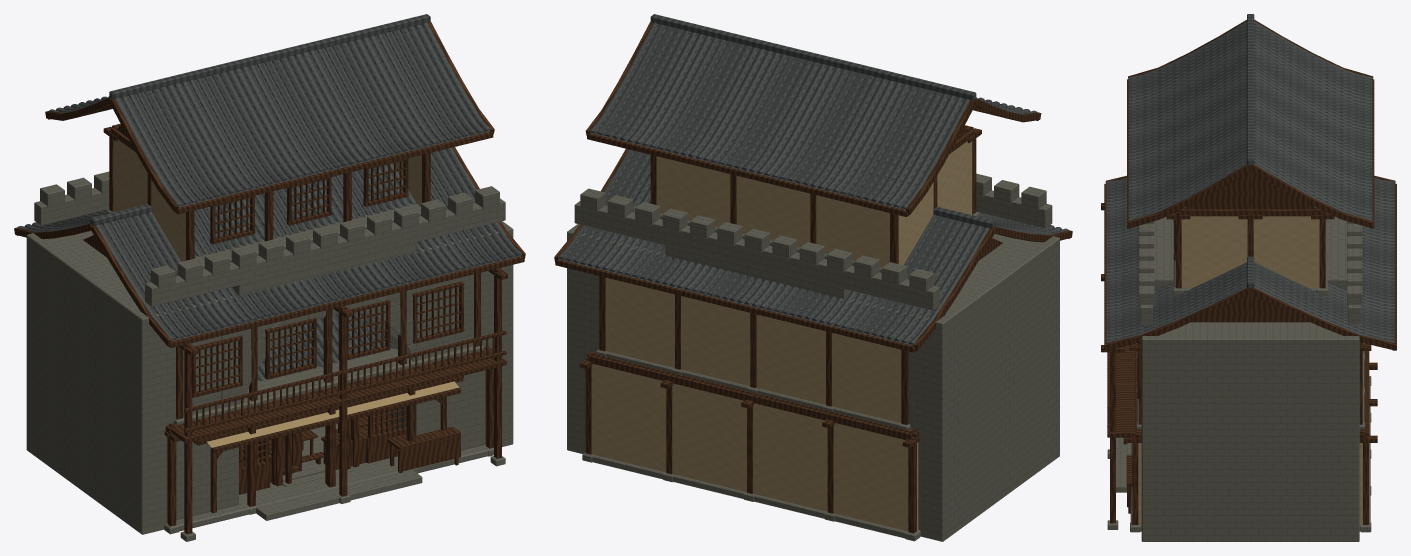
The model's file is period-architecture.glb.
The picture shows the model from 3 angles, left to right: view 1: azimuth 30°, elevation 25°; view 2: azimuth 150°, elevation 25°; view 3: azimuth 270°, elevation 25°; orthographic projection. The views are drawn at different scales.
Parts seen in each view (by area): view 1: building_gate_Grey masonry, building_gate_Grey fired roof tile, building_tea_Weathered timber, building_tea_Grey fired roof tile, building_gate_Weathered timber, building_tea_Grey masonry, building_thatch_Weathered timber, building_gate_Warm lime and clay, building_workshop_Weathered timber, building_workshop_Grey fired roof tile, building_workshop_Unbleached woven cloth, building_shop_Weathered timber (+1 smaller); view 2: building_gate_Grey masonry, building_tea_Warm lime and clay, building_gate_Grey fired roof tile, building_tea_Grey fired roof tile, building_gate_Warm lime and clay, building_tea_Weathered timber, building_gate_Weathered timber, building_tea_Grey masonry; view 3: building_gate_Grey masonry, building_gate_Grey fired roof tile, building_tea_Grey fired roof tile, building_tea_Weathered timber, building_gate_Weathered timber, building_gate_Warm lime and clay, building_tea_Grey masonry, building_tea_Warm lime and clay.
Part boxes in pixels (x1=…): building_gate_Grey masonry: x1=26, y1=171, x2=513, y2=534; building_gate_Grey fired roof tile: x1=49, y1=14, x2=490, y2=207; building_tea_Weathered timber: x1=14, y1=147, x2=525, y2=534; building_tea_Grey fired roof tile: x1=17, y1=147, x2=521, y2=341; building_gate_Weathered timber: x1=45, y1=21, x2=494, y2=260; building_tea_Grey masonry: x1=164, y1=345, x2=505, y2=541; building_thatch_Weathered timber: x1=193, y1=375, x2=463, y2=494; building_gate_Warm lime and clay: x1=113, y1=139, x2=421, y2=261; building_workshop_Weathered timber: x1=209, y1=387, x2=461, y2=513; building_workshop_Grey fired roof tile: x1=257, y1=313, x2=395, y2=381; building_workshop_Unbleached woven cloth: x1=207, y1=381, x2=458, y2=447; building_shop_Weathered timber: x1=240, y1=422, x2=391, y2=482; building_gate_Grey masonry: x1=567, y1=173, x2=1059, y2=541; building_tea_Warm lime and clay: x1=591, y1=277, x2=918, y2=531; building_gate_Grey fired roof tile: x1=589, y1=14, x2=1037, y2=209; building_tea_Grey fired roof tile: x1=558, y1=149, x2=1068, y2=345; building_gate_Warm lime and clay: x1=656, y1=141, x2=972, y2=267; building_tea_Weathered timber: x1=554, y1=149, x2=1072, y2=533; building_gate_Weathered timber: x1=585, y1=21, x2=1041, y2=263; building_tea_Grey masonry: x1=582, y1=349, x2=920, y2=541; building_gate_Grey masonry: x1=1139, y1=207, x2=1362, y2=541; building_gate_Grey fired roof tile: x1=1129, y1=14, x2=1372, y2=220; building_tea_Grey fired roof tile: x1=1106, y1=178, x2=1394, y2=342; building_tea_Weathered timber: x1=1101, y1=175, x2=1396, y2=524; building_gate_Weathered timber: x1=1127, y1=19, x2=1374, y2=288; building_gate_Warm lime and clay: x1=1181, y1=216, x2=1319, y2=287; building_tea_Grey masonry: x1=1107, y1=343, x2=1371, y2=532; building_tea_Warm lime and clay: x1=1138, y1=443, x2=1362, y2=524.
Bounding box in the file's own units: 12.6 × 12.76 × 9.24.
Materials: 6 (6 with a texture image).
